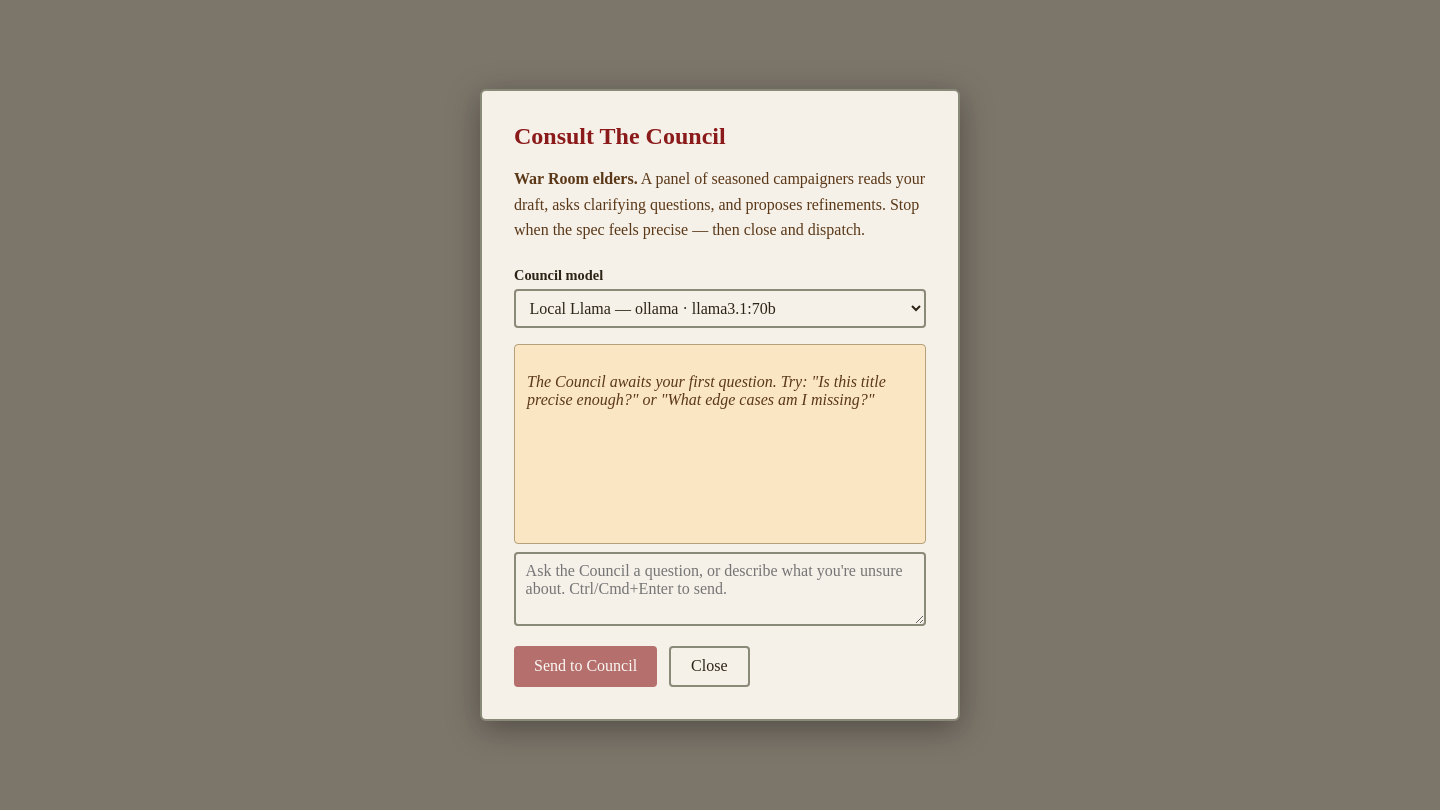
Test case: CouncilModal › sends the user message + draft + model to /council/consult and renders the reply
The image size is (1440, 810).
Expected: the dropdown with test id "advisor-model-select" shows "Local Llama — ollama · llama3.1:70b", x1=514 y1=289 x2=926 y2=328
In the text box with test id "advisor-input": (720, 589) x1=514 y1=552 x2=926 y2=626, type "What should I sharpen?"
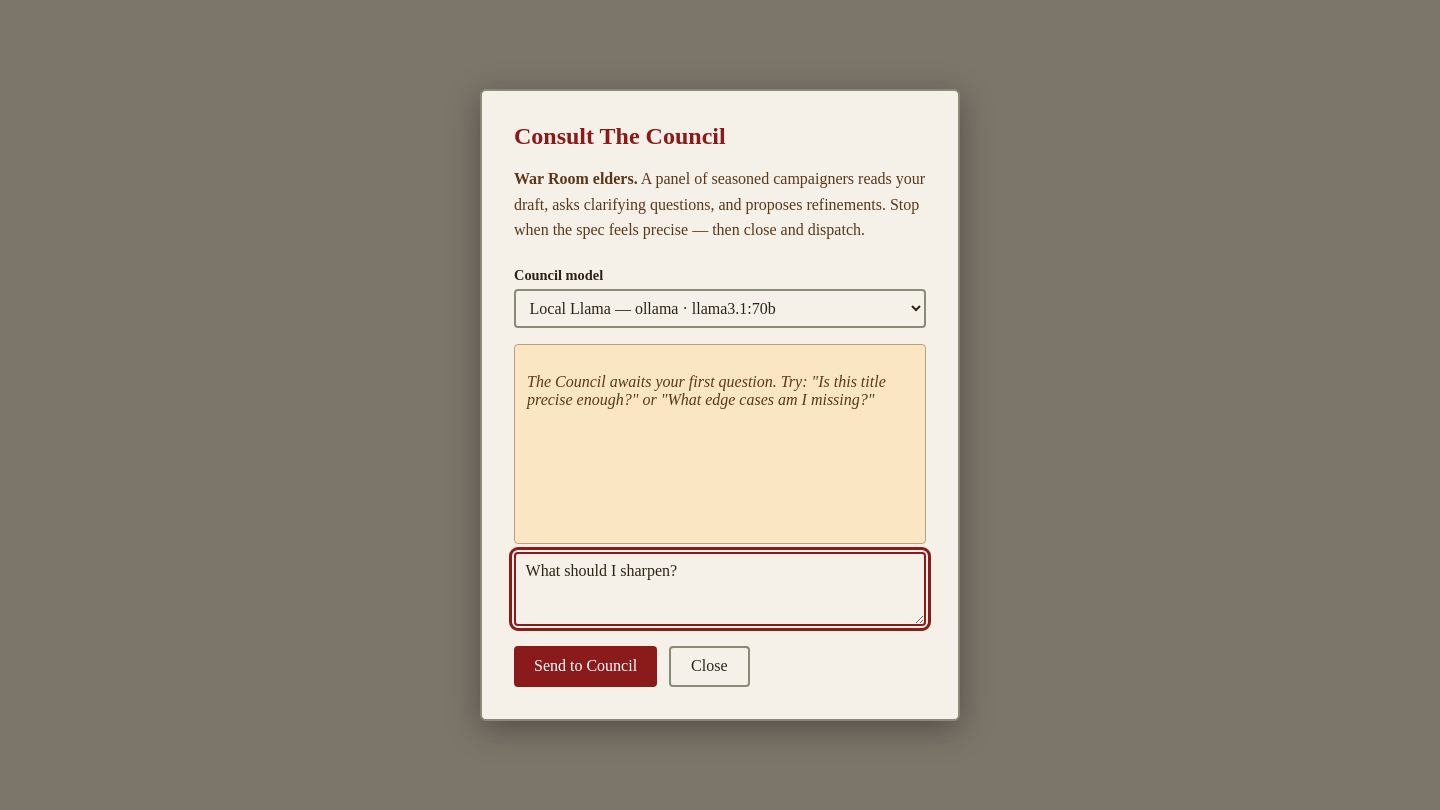
Click the button "Send to Council": click(586, 666) x1=514 y1=646 x2=657 y2=687
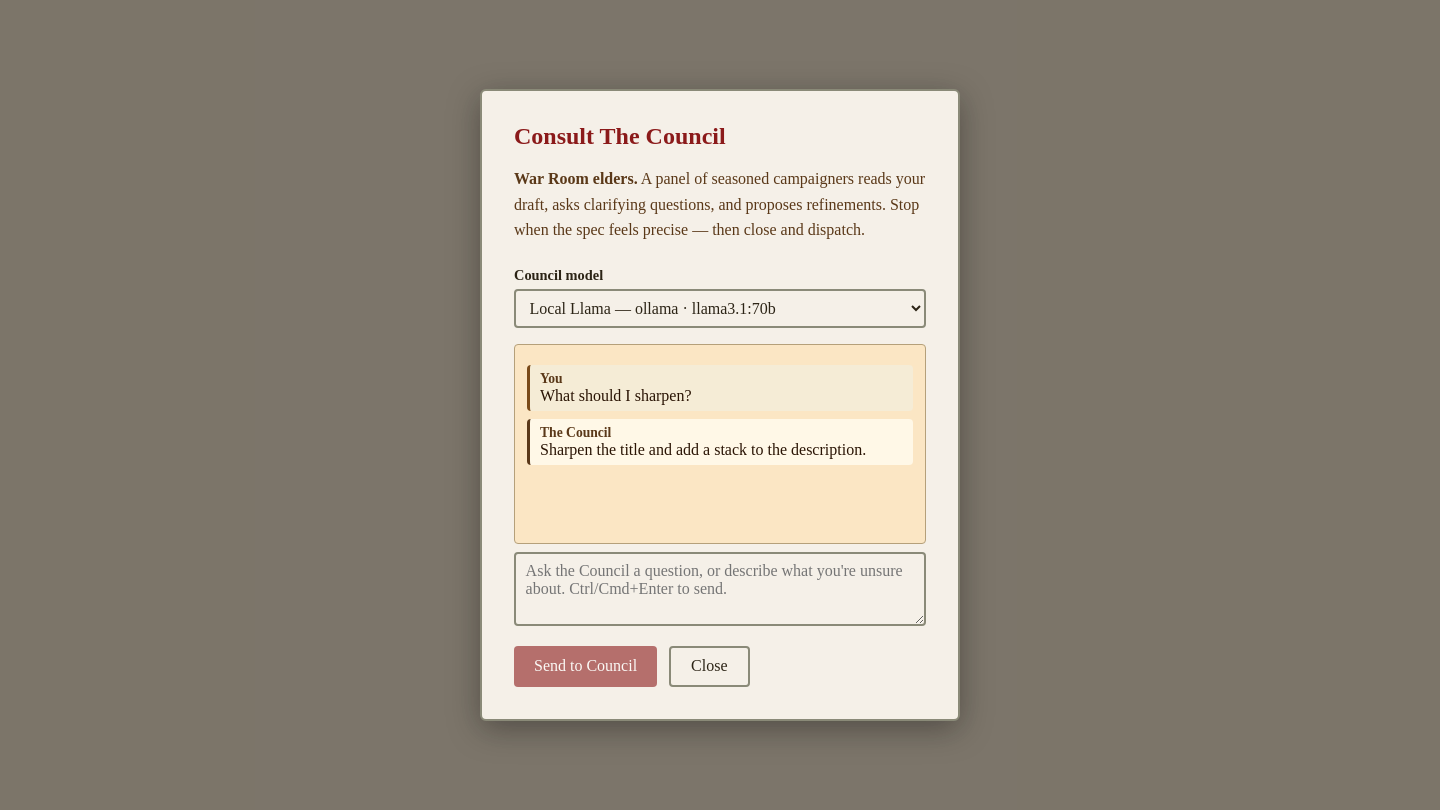
Expected: the text "What should I sharpen?" is shown, x1=540 y1=387 x2=692 y2=404
Expected: the text "Sharpen the title and add a stack to the description." is shown, x1=540 y1=441 x2=866 y2=458
